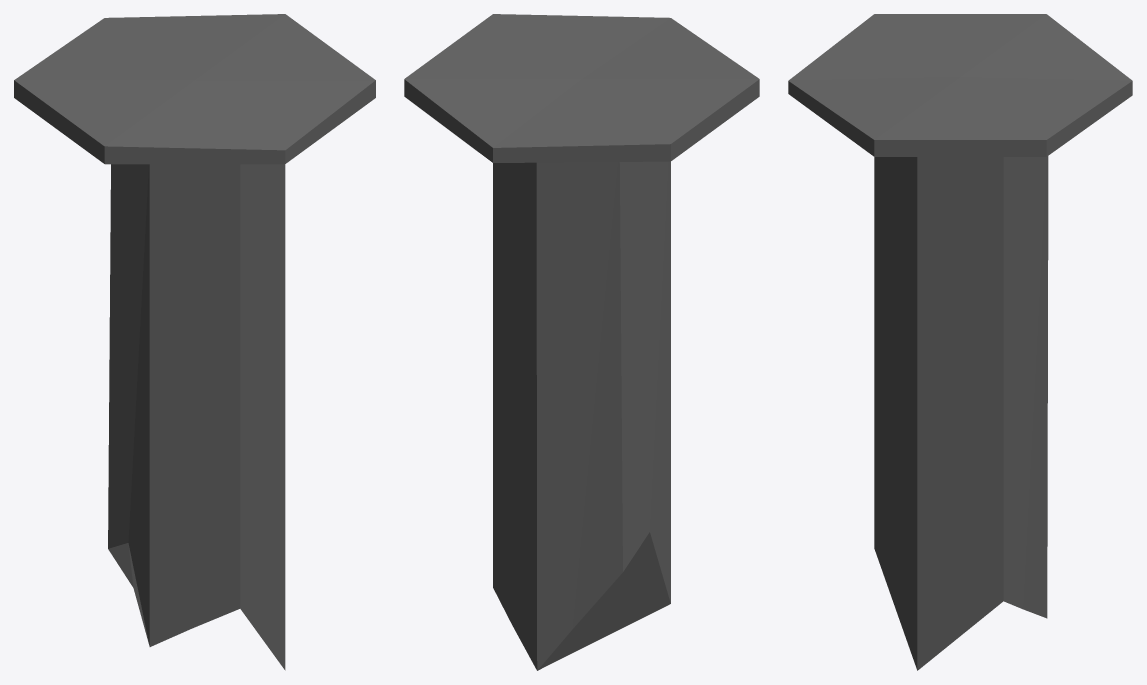
The model's file is nail_2_top.FBX.
3 renders of one model, left to right at view 1: azimuth 30°, elevation 25°; view 2: azimuth 150°, elevation 25°; view 3: azimuth 270°, elevation 25°, orthographic. The views are drawn at different scales.
Visible parts, largest first — view 1: nail_low_poly_t_2; view 2: nail_low_poly_t_2; view 3: nail_low_poly_t_2.
Boxes of the visible parts, x1,y1,x2,y2 form: nail_low_poly_t_2: (14, 14, 375, 670); nail_low_poly_t_2: (404, 14, 759, 670); nail_low_poly_t_2: (788, 14, 1132, 670).
Bounding box in the file's own units: 12.6 × 26.22 × 14.55.
Materials: 1 (1 with a texture image).
